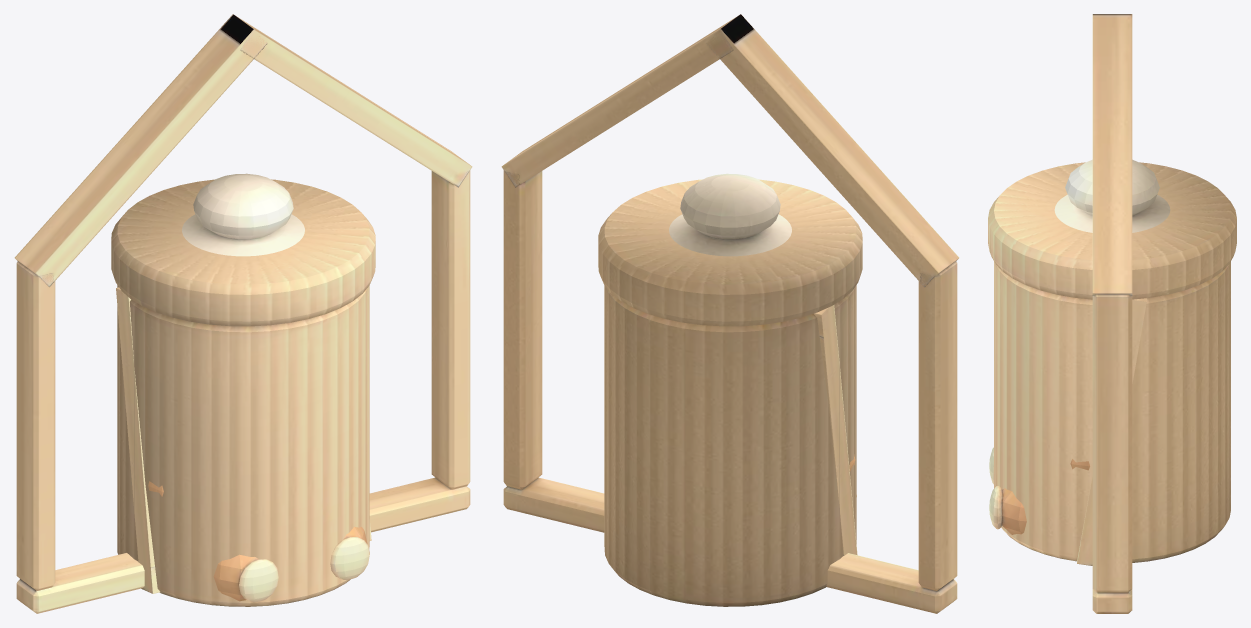
File: memorial_props.glb
The picture shows the model from 3 angles, left to right: view 1: azimuth 30°, elevation 25°; view 2: azimuth 150°, elevation 25°; view 3: azimuth 270°, elevation 25°; orthographic projection. The views are drawn at different scales.
Visible parts, largest first — view 1: prop__urn_wood, prop__house_frame, prop__urn_ceramic, prop__photo_frame, prop__plush_bear; view 2: prop__urn_wood, prop__house_frame, prop__urn_ceramic, prop__photo_frame; view 3: prop__urn_wood, prop__house_frame, prop__urn_ceramic, prop__plush_bear, prop__photo_frame.
Part boxes in pixels (x1=…): prop__urn_wood: x1=111, y1=179, x2=375, y2=606; prop__house_frame: x1=14, y1=14, x2=472, y2=613; prop__urn_ceramic: x1=182, y1=173, x2=304, y2=256; prop__photo_frame: x1=116, y1=287, x2=371, y2=593; prop__plush_bear: x1=148, y1=481, x2=369, y2=602; prop__urn_wood: x1=598, y1=179, x2=862, y2=606; prop__house_frame: x1=501, y1=14, x2=959, y2=613; prop__urn_ceramic: x1=669, y1=173, x2=791, y2=256; prop__photo_frame: x1=814, y1=305, x2=857, y2=555; prop__urn_wood: x1=988, y1=162, x2=1236, y2=562; prop__house_frame: x1=1092, y1=14, x2=1132, y2=613; prop__urn_ceramic: x1=1054, y1=159, x2=1170, y2=232; prop__plush_bear: x1=989, y1=447, x2=1089, y2=534; prop__photo_frame: x1=1077, y1=298, x2=1146, y2=565.
Bounding box in the file's own units: 0.24 × 0.282 × 0.126.
5 materials, 1 textured.
